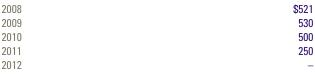table: (0, 1, 312, 70)
table column: (0, 1, 156, 70), (156, 1, 312, 70)
table row: (0, 1, 312, 15), (0, 28, 312, 42), (0, 42, 312, 56), (0, 56, 312, 70), (0, 15, 312, 28)
